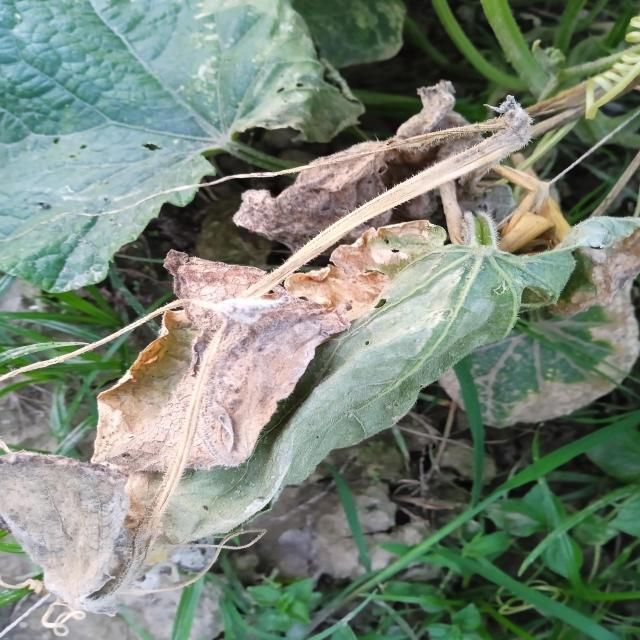cucumber_bacterial: (79, 266, 310, 465), (468, 211, 640, 448), (0, 427, 156, 618)
